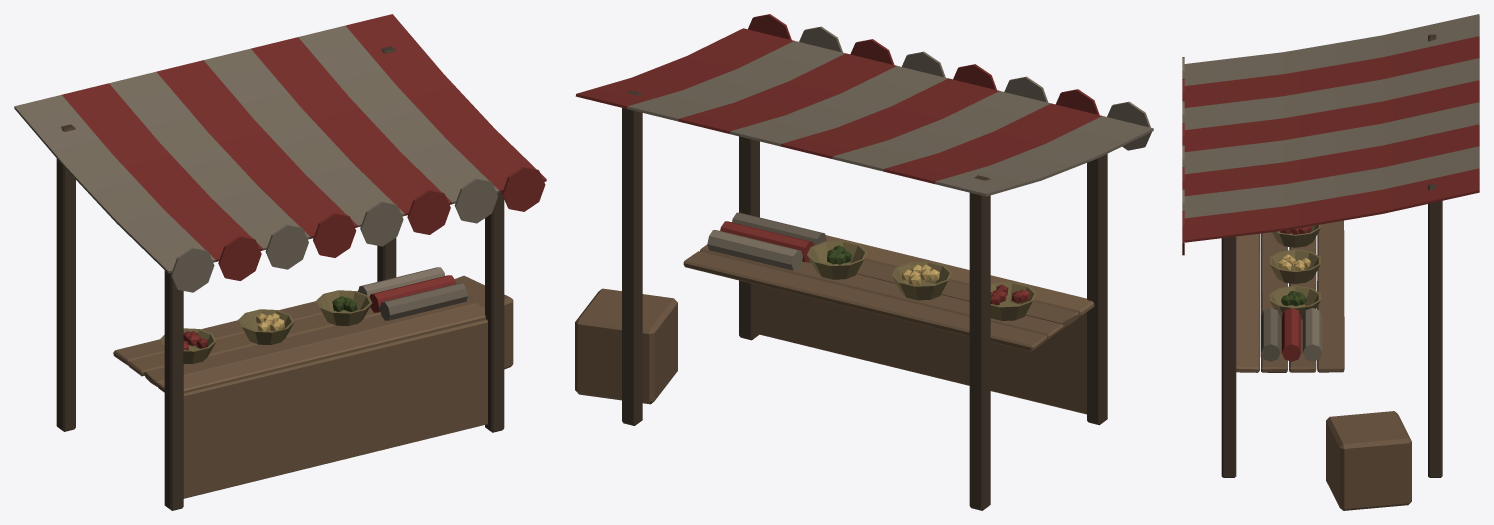
Rendered from market_stall.glb.
3 renders of one model, left to right at view 1: azimuth 30°, elevation 25°; view 2: azimuth 150°, elevation 25°; view 3: azimuth 270°, elevation 25°, orthographic. The views are drawn at different scales.
Visible parts, largest first — view 1: market_stall; view 2: market_stall; view 3: market_stall.
Boxes of the visible parts, x1,y1,x2,y2 form: market_stall: (14, 14, 546, 510); market_stall: (575, 14, 1153, 510); market_stall: (1182, 14, 1479, 510).
Size of what is drawn, in the model's own units: 3.85 by 2.68 by 2.42.
